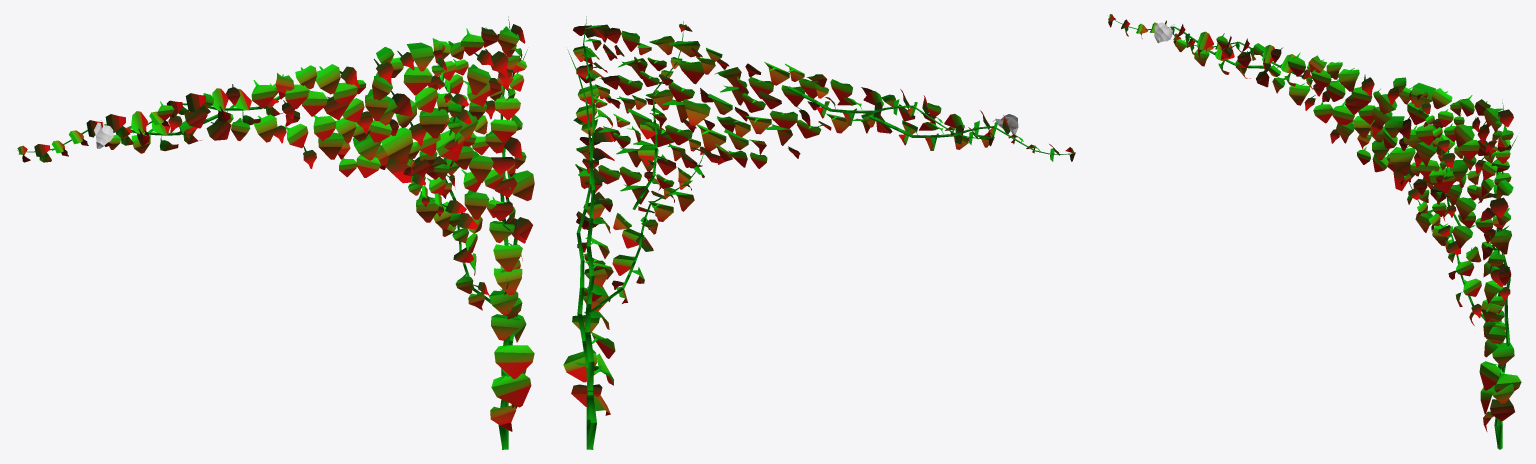
File: Lierre3_LOD0.fbx
3 views of the same model, side by side, from view 1: azimuth 30°, elevation 25°; view 2: azimuth 150°, elevation 25°; view 3: azimuth 330°, elevation 25° (orthographic). The views are drawn at different scales.
Parts seen in each view (by area): view 1: _5311_Var1_LOD1; view 2: _5311_Var1_LOD1; view 3: _5311_Var1_LOD1.
Boxes of the visible parts, bbox=[...] form: _5311_Var1_LOD1: bbox=[17, 16, 534, 449]; _5311_Var1_LOD1: bbox=[563, 16, 1075, 449]; _5311_Var1_LOD1: bbox=[1108, 14, 1521, 449].
Size of the model in its own units: 112 by 91.32 by 9.53.
